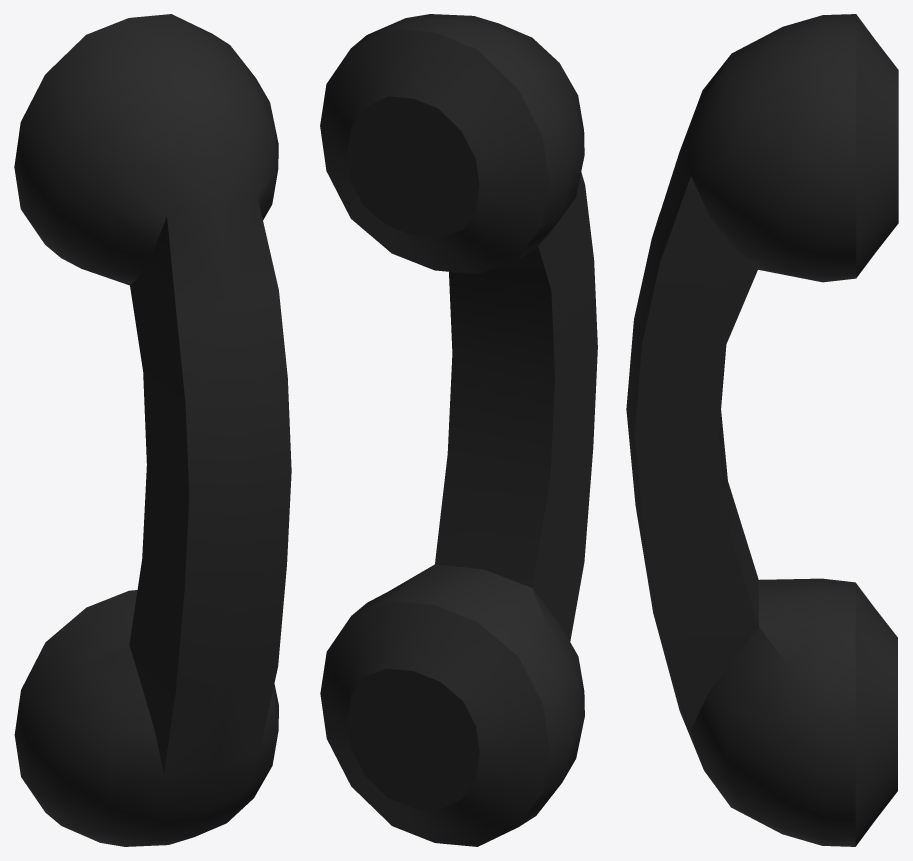
File: Telephone.fbx
The picture shows the model from 3 angles, left to right: view 1: azimuth 30°, elevation 25°; view 2: azimuth 150°, elevation 25°; view 3: azimuth 270°, elevation 25°; orthographic projection.
Parts seen in each view (by area): view 1: Telephone; view 2: Telephone; view 3: Telephone.
Part boxes in pixels (x1=…): Telephone: x1=14, y1=14, x2=291, y2=846; Telephone: x1=320, y1=14, x2=597, y2=846; Telephone: x1=626, y1=14, x2=898, y2=846.
Size of the model in its own units: 19.58 by 63.46 by 19.45.
